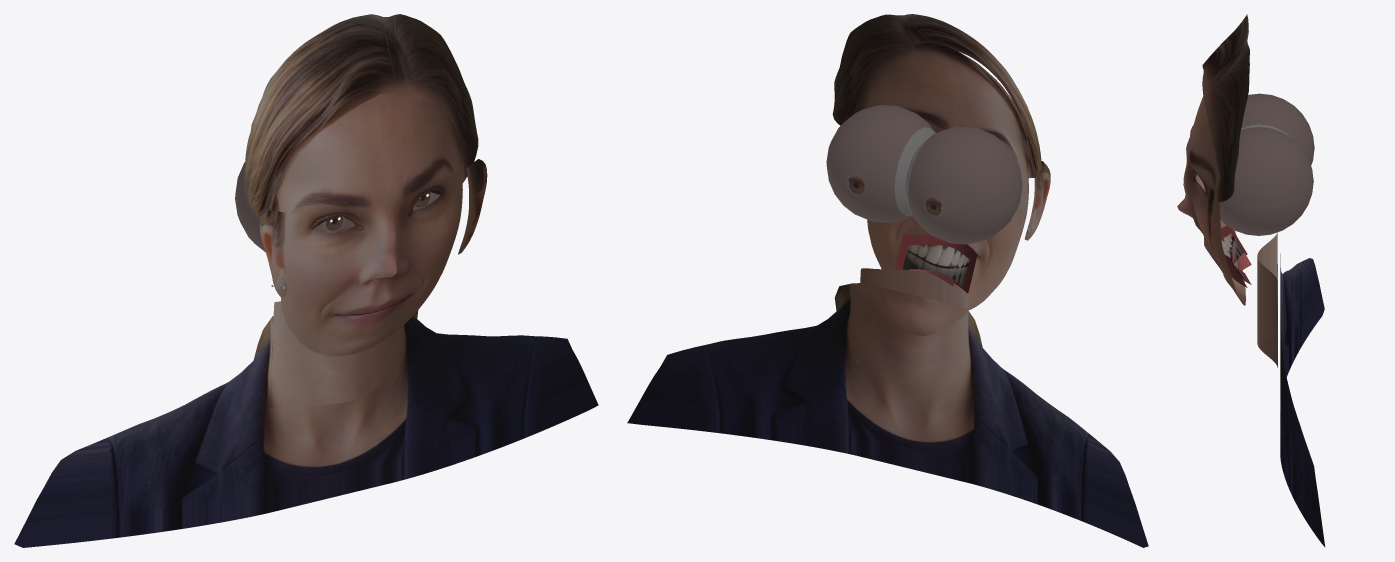
Rendered from tess.glb.
3 renders of one model, left to right at view 1: azimuth 30°, elevation 25°; view 2: azimuth 150°, elevation 25°; view 3: azimuth 270°, elevation 25°, orthographic. The views are drawn at different scales.
Parts seen in each view (by area): view 1: Body, Head, Hair, Neck, Ears, Eye_L; view 2: Body, Head, Eye_L, Eye_R, Hair, Neck, Cavity, Teeth_Upper, Ears, Teeth_Lower; view 3: Eye_R, Body, Hair, Head, Eye_L, Neck, Cavity, Ears.
Boxes of the visible parts, x1,y1,x2,y2 form: Body: [14, 302, 598, 547]; Head: [276, 93, 462, 356]; Hair: [244, 14, 478, 218]; Neck: [269, 301, 398, 408]; Ears: [259, 159, 487, 296]; Eye_L: [235, 162, 354, 251]; Body: [627, 283, 1148, 547]; Head: [850, 43, 1028, 309]; Eye_L: [905, 126, 1022, 244]; Eye_R: [826, 105, 935, 222]; Hair: [832, 14, 1041, 178]; Neck: [860, 268, 968, 310]; Cavity: [895, 234, 977, 293]; Teeth_Upper: [907, 244, 969, 268]; Ears: [1024, 161, 1050, 240]; Teeth_Lower: [902, 252, 967, 286]; Eye_R: [1204, 127, 1313, 235]; Body: [1280, 253, 1325, 547]; Hair: [1202, 14, 1249, 202]; Head: [1177, 96, 1246, 305]; Eye_L: [1241, 93, 1314, 165]; Neck: [1257, 232, 1277, 367]; Cavity: [1220, 225, 1247, 287]; Ears: [1206, 187, 1216, 258].
Bounding box in the file's own units: 2.44 × 1.97 × 0.8908.
Materials: 8 (5 with a texture image).
